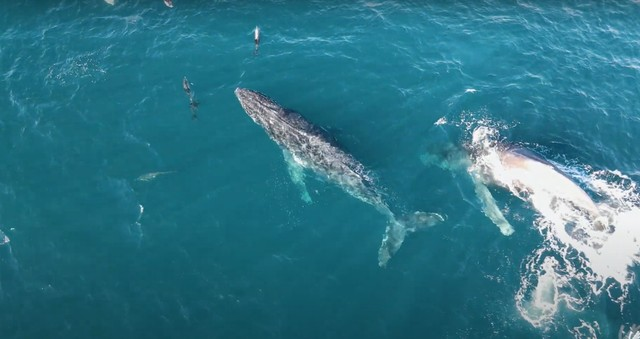whale: (226, 78, 451, 271)
whalew: (417, 114, 637, 304)
